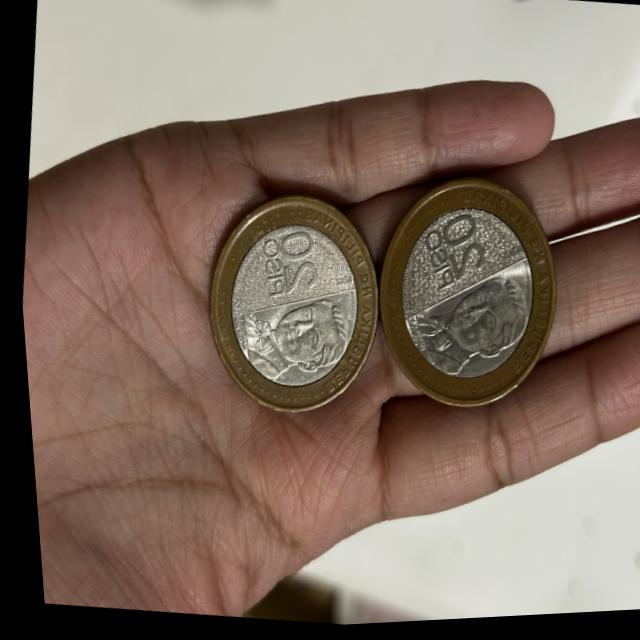20_New_Front: (231, 224, 332, 318), (402, 212, 494, 301)
